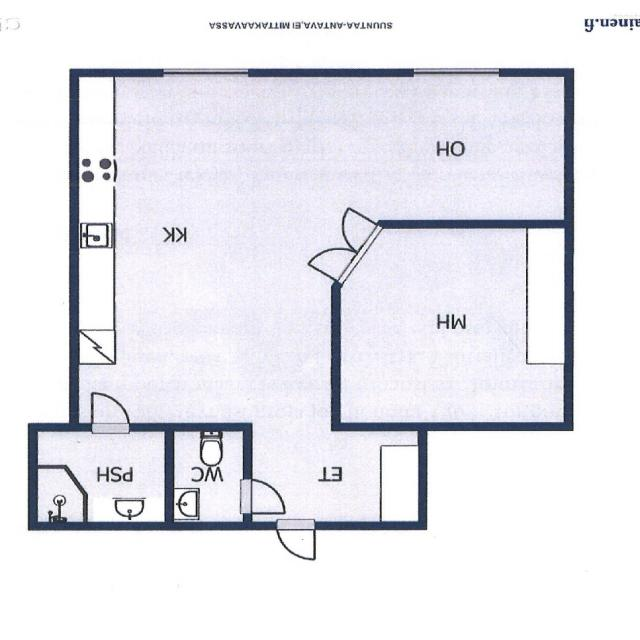door: (304, 233, 362, 284), (324, 205, 382, 256), (276, 522, 316, 564), (243, 479, 290, 514), (92, 388, 130, 430)
